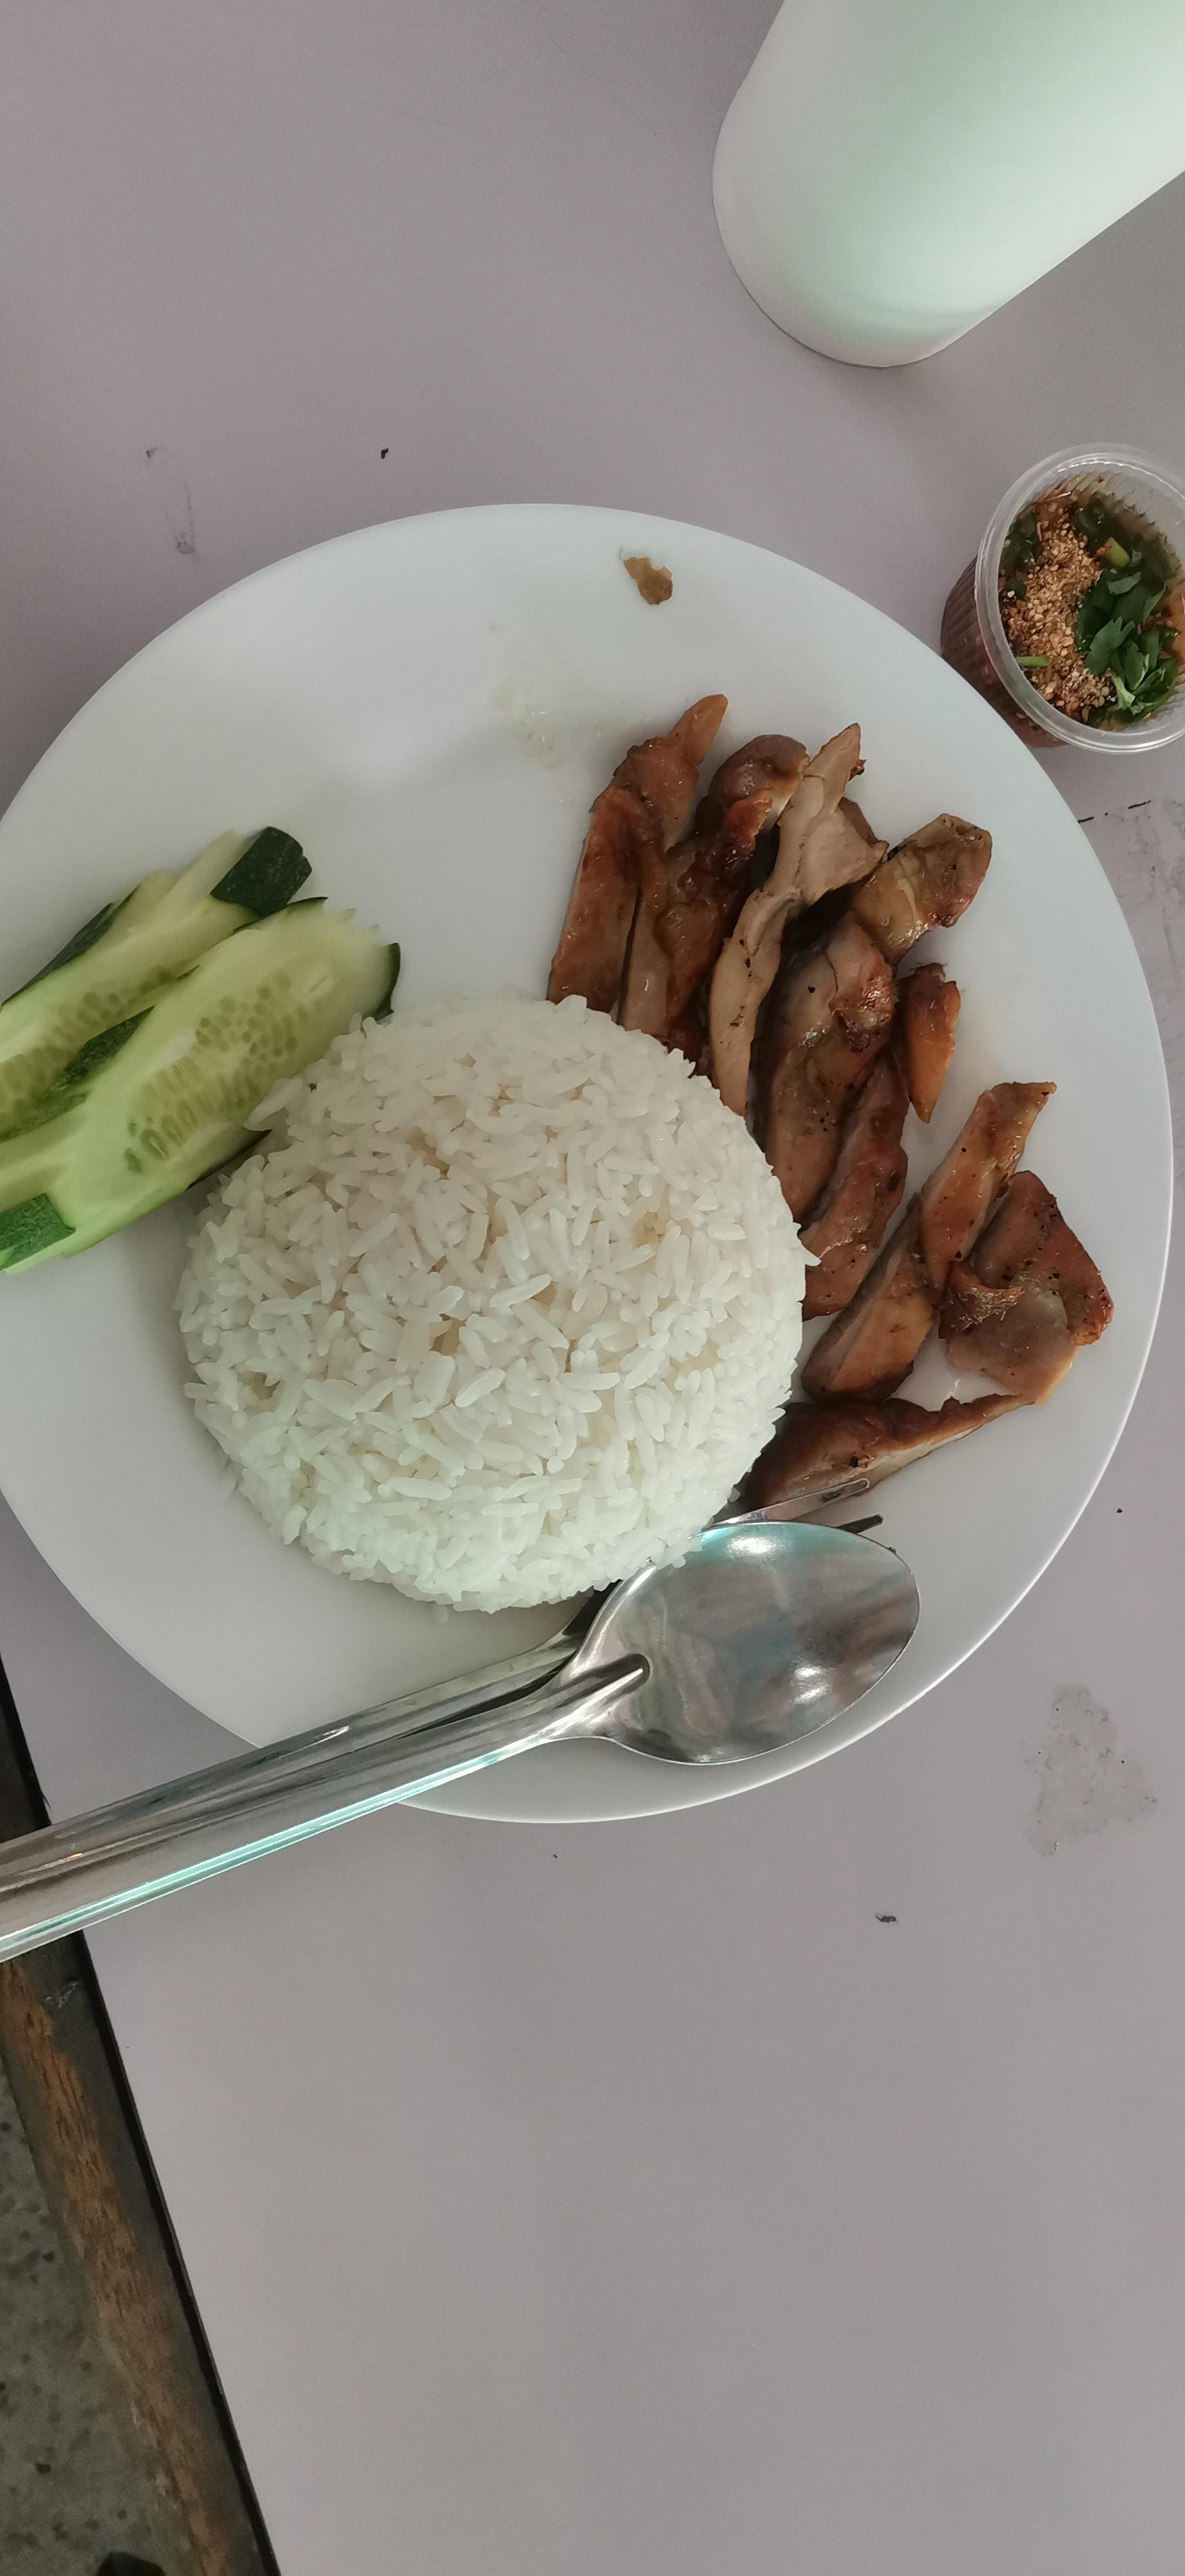carbohydrate: (179, 1022, 817, 1607)
meat: (575, 738, 1127, 1518)
vegetable: (0, 853, 339, 1230)
